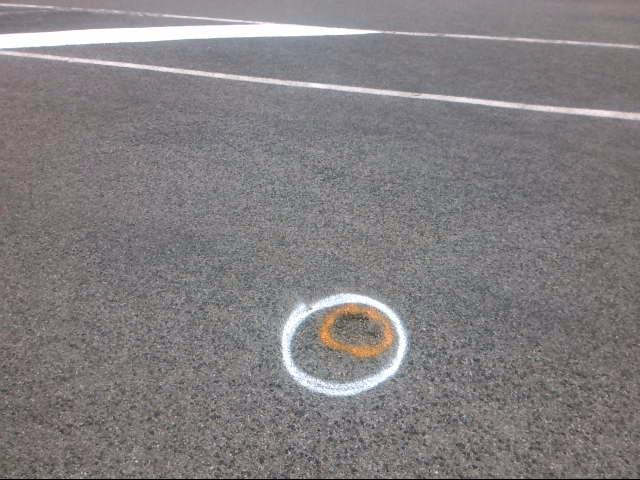pothole: (328, 310, 382, 352)
